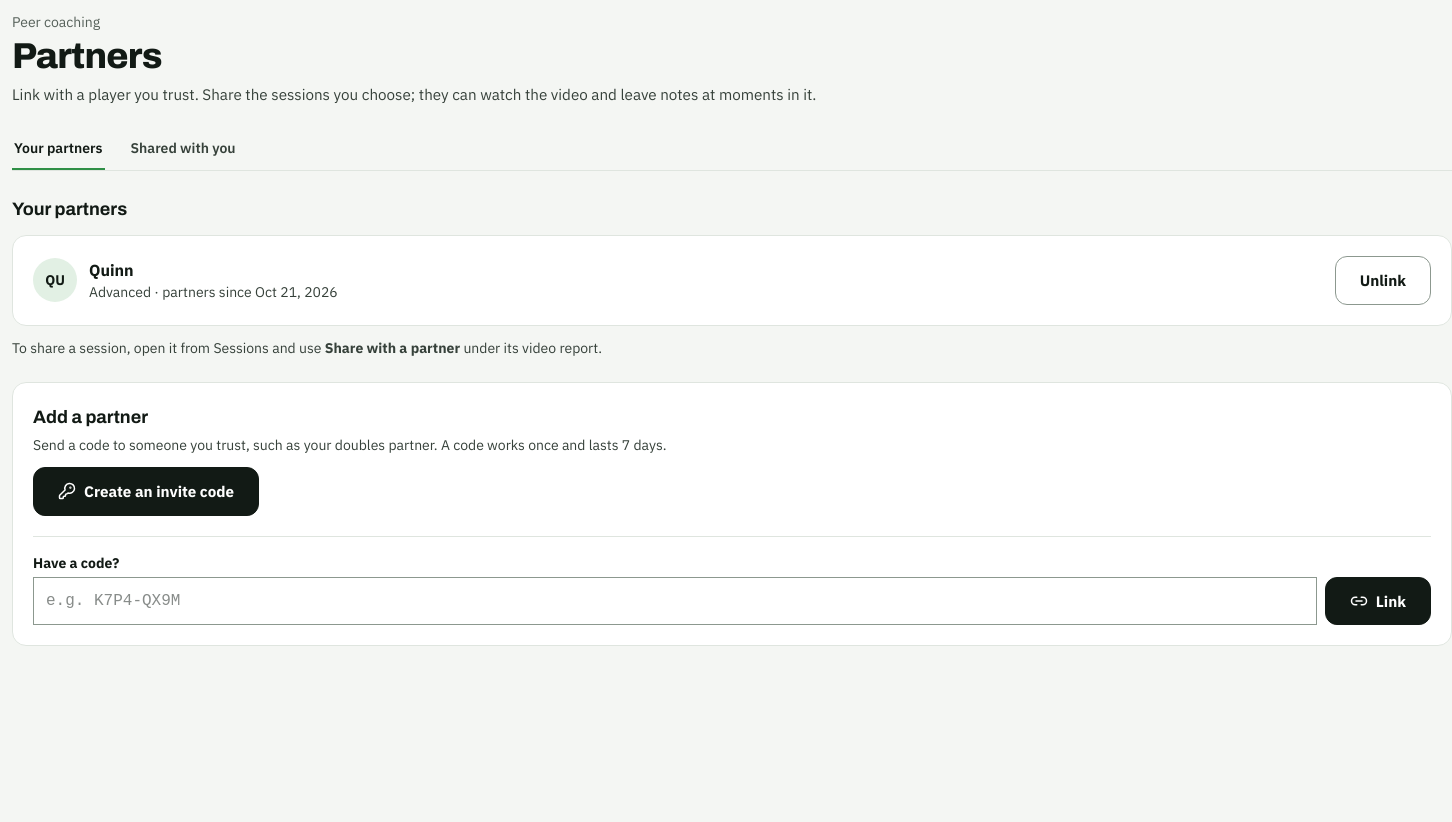
Test: Partners › asks before unlinking and says what happens to shared sessions
Click the button "Unlink" at (1383, 280), box [1335,256,1431,305]
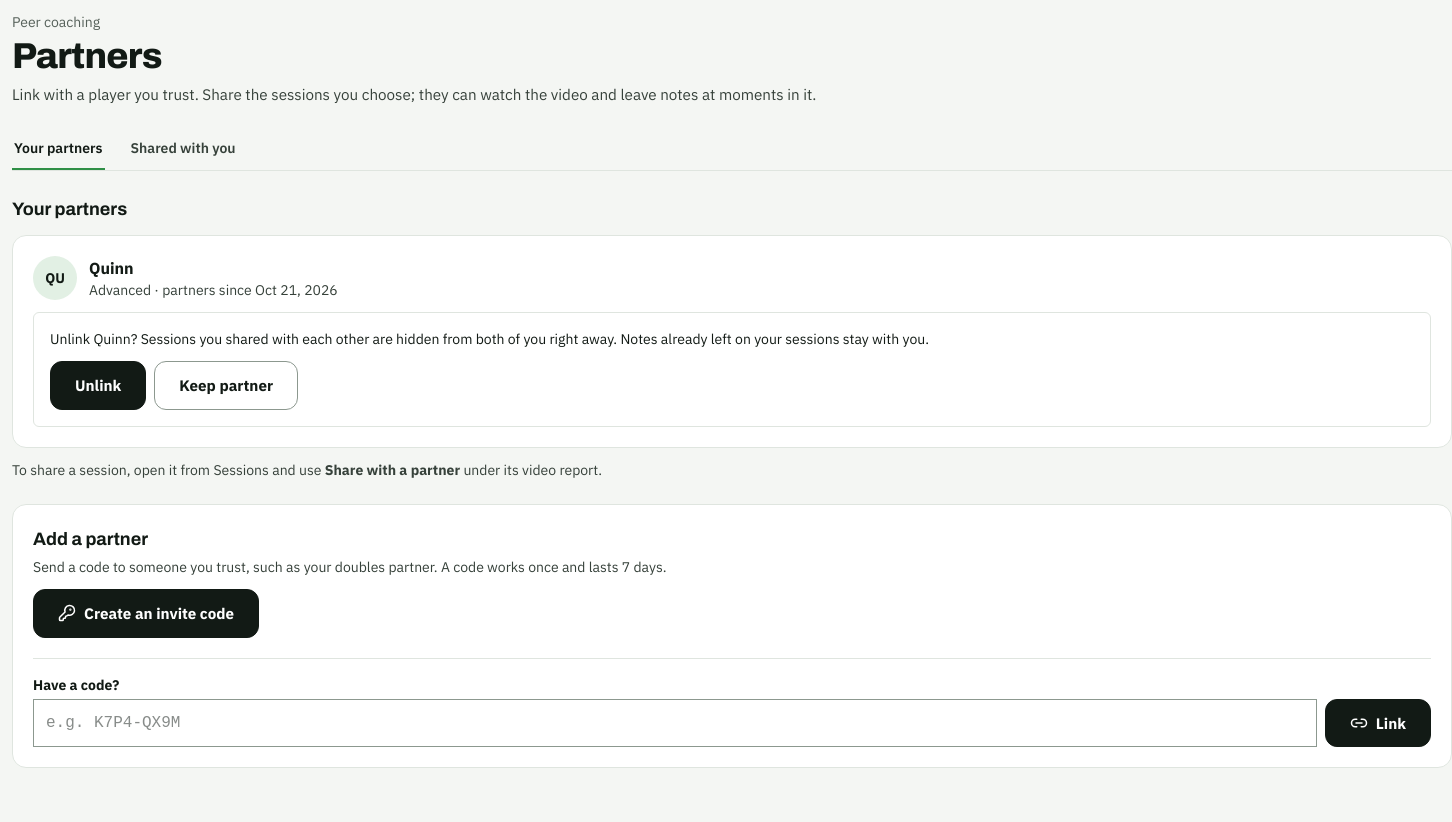
Click the button "Keep partner" at (226, 385), box [154,361,298,410]
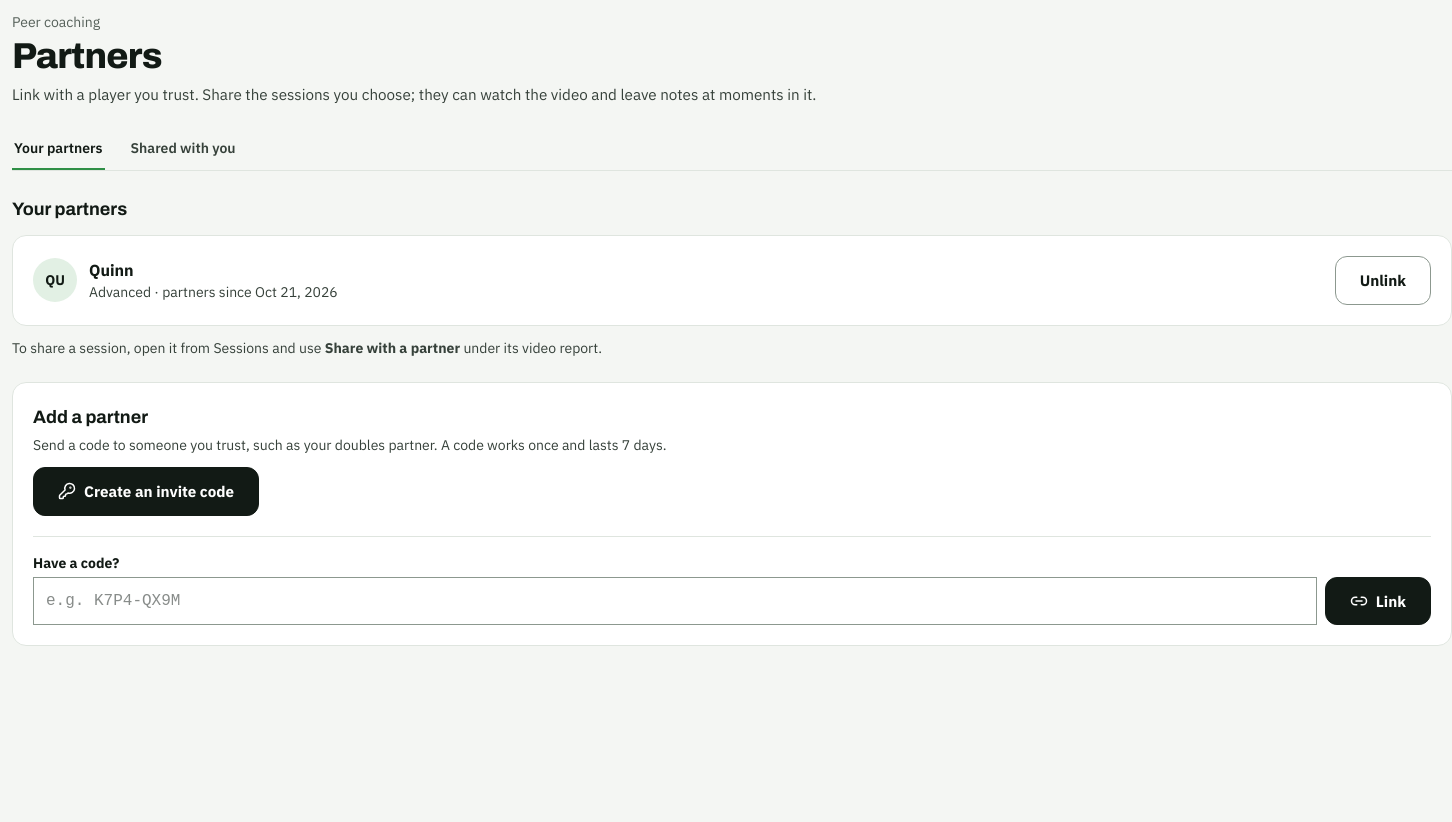
Click the button "Unlink" at (1383, 280), box [1335,256,1431,305]
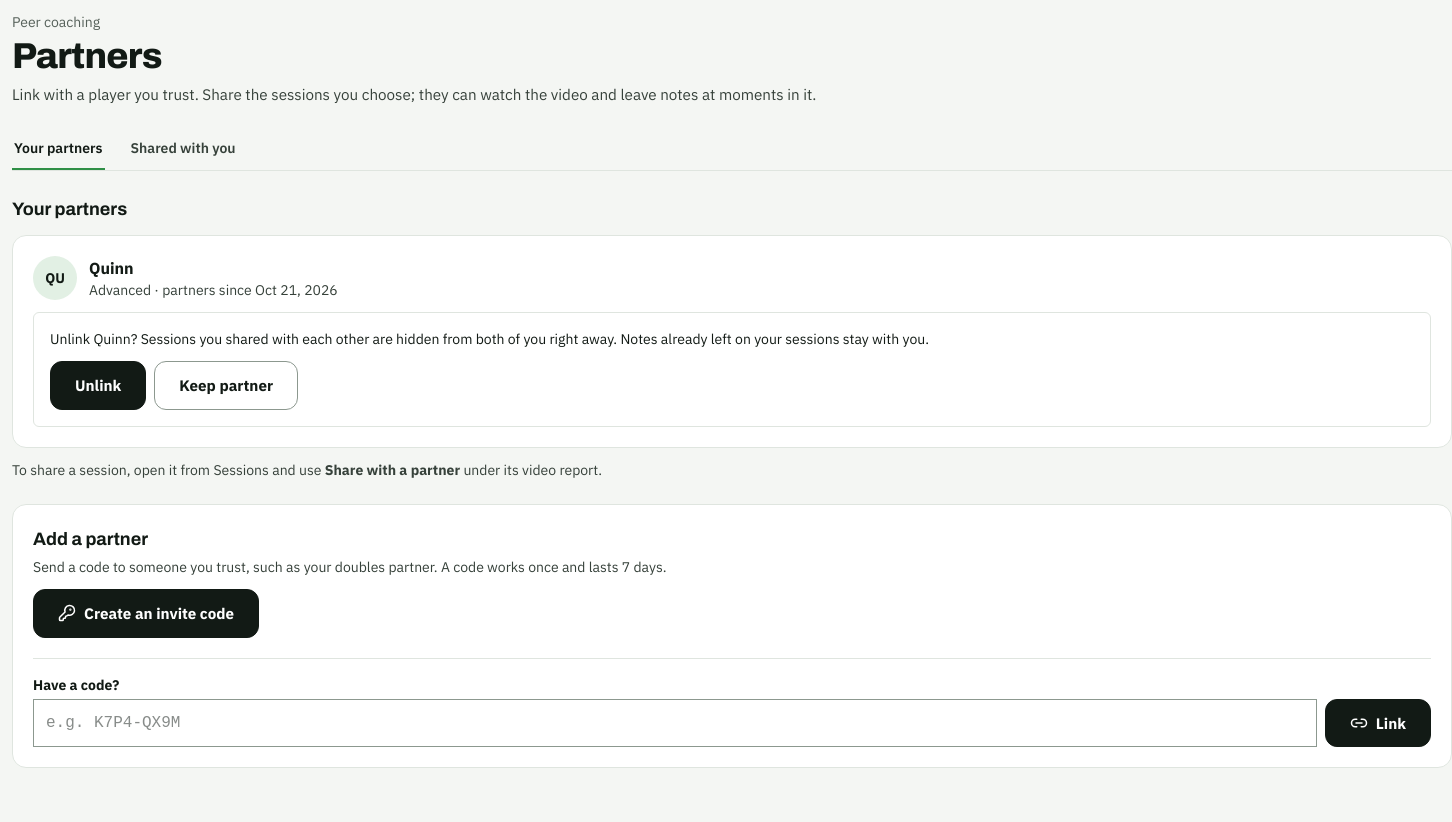
Click the button "Unlink" at (98, 385), box [50,361,146,410]
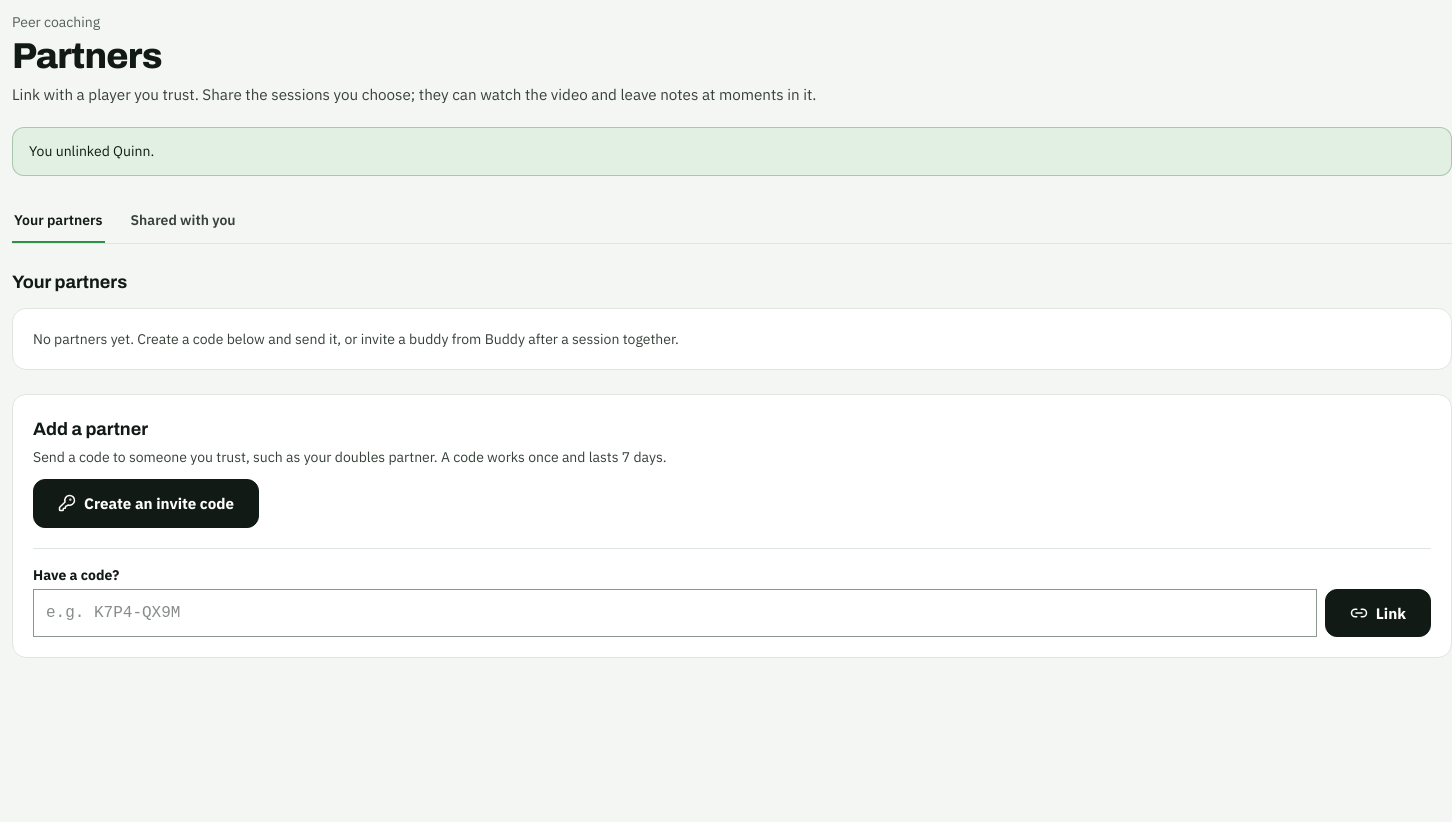
Expected: the text "You unlinked Quinn." is shown, [12,127,1451,176]
